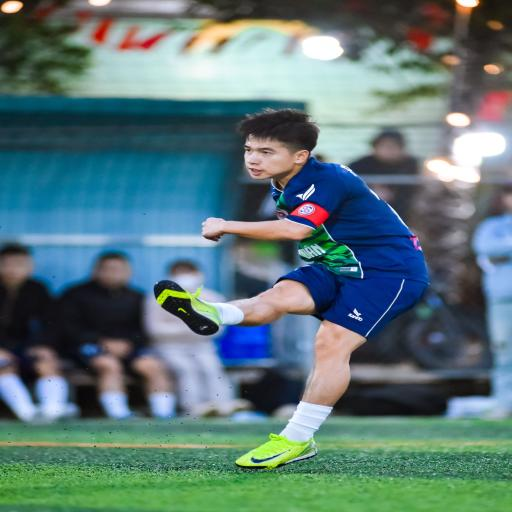shoe: (154, 281, 220, 335), (236, 434, 317, 469), (31, 403, 80, 424), (480, 406, 511, 420), (28, 411, 56, 425), (116, 411, 142, 421)
